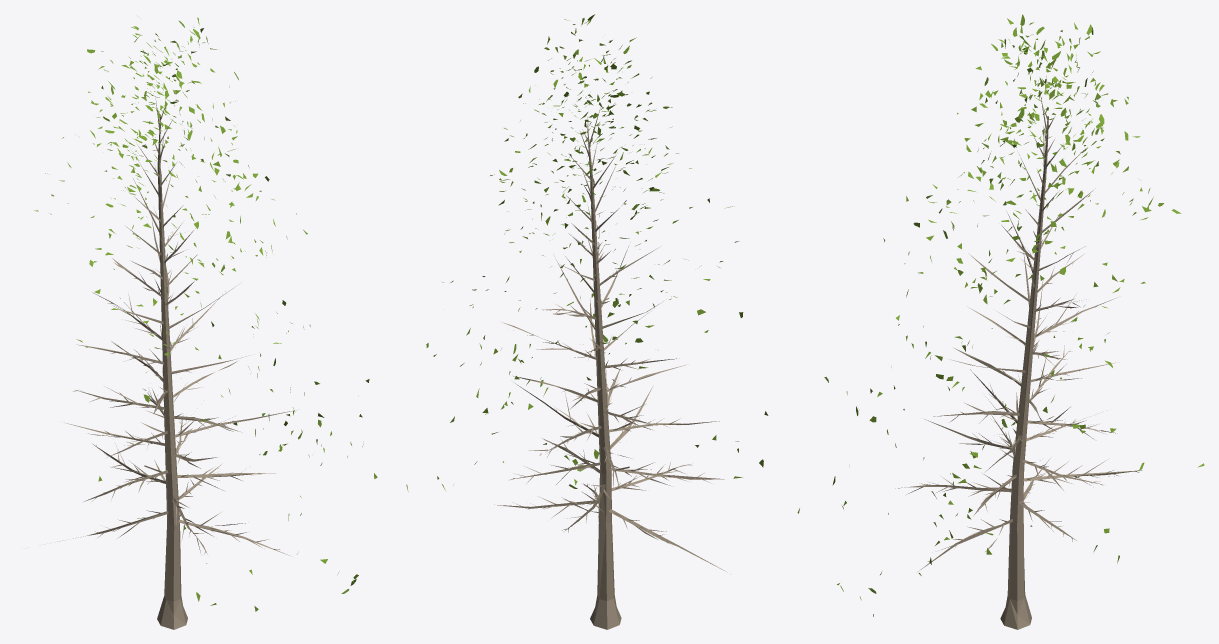
The model's file is tree_black_tupelo.glb.
3 renders of one model, left to right at view 1: azimuth 30°, elevation 25°; view 2: azimuth 150°, elevation 25°; view 3: azimuth 270°, elevation 25°, orthographic. The views are drawn at different scales.
Parts seen in each view (by area): view 1: trunk, leaves; view 2: trunk, leaves; view 3: trunk, leaves.
Part boxes in pixels (<box>): trunk: <box>57,98,296,629</box>; leaves: <box>34,17,377,611</box>; trunk: <box>494,105,727,629</box>; leaves: <box>406,14,768,491</box>; trunk: <box>895,88,1142,629</box>; leaves: <box>797,14,1204,616</box>.
Size of the model in its own units: 5.33 by 9.91 by 5.97.
